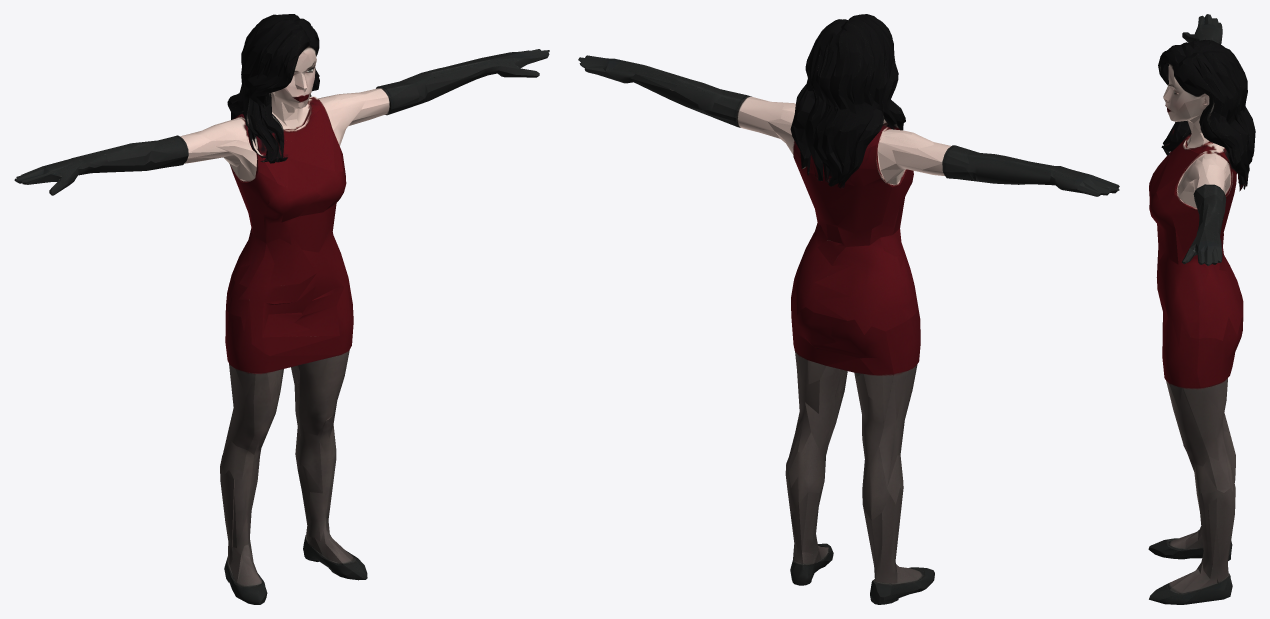
File: image3d.glb
3 renders of one model, left to right at view 1: azimuth 30°, elevation 25°; view 2: azimuth 150°, elevation 25°; view 3: azimuth 270°, elevation 25°, orthographic. The views are drawn at different scales.
Bounding box in the file's own units: 1.9 × 1.89 × 0.3444.
Materials: 1 (1 with a texture image).
